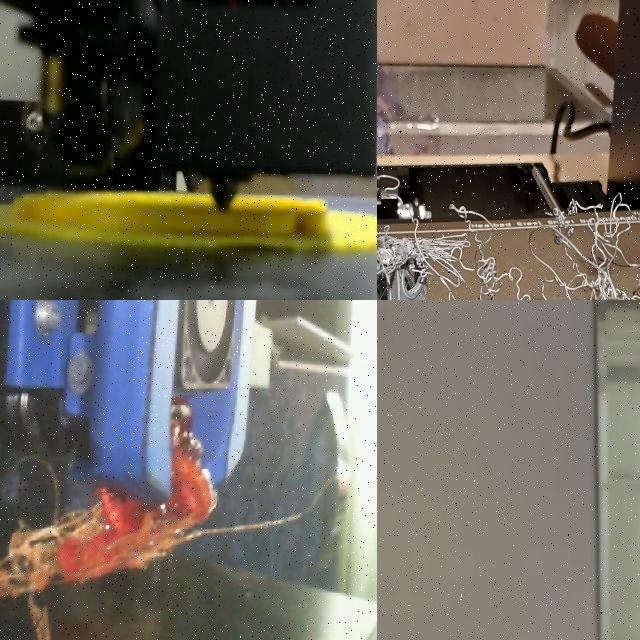spaghetti: (0, 400, 238, 640), (0, 397, 217, 640), (377, 141, 640, 300)
